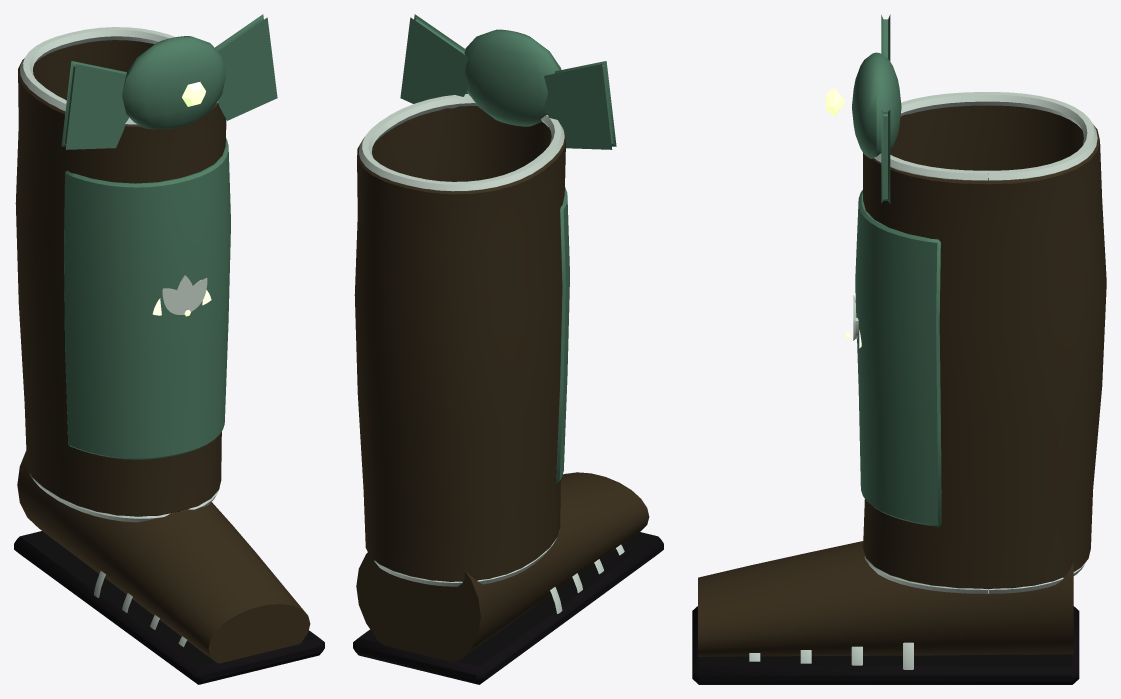
File: boss_grievance_of_the_fairy_boots_1.glb
3 renders of one model, left to right at view 1: azimuth 30°, elevation 25°; view 2: azimuth 150°, elevation 25°; view 3: azimuth 270°, elevation 25°, orthographic. The views are drawn at different scales.
Parts seen in each view (by area): view 1: boss_grievance_of_the_fairy_boots_1, AT_foot_L; view 2: boss_grievance_of_the_fairy_boots_1, AT_foot_L; view 3: boss_grievance_of_the_fairy_boots_1, AT_foot_L.
Part boxes in pixels (<box>): boss_grievance_of_the_fairy_boots_1: <box>15,14,277,522</box>; AT_foot_L: <box>14,451,324,684</box>; boss_grievance_of_the_fairy_boots_1: <box>354,14,616,586</box>; AT_foot_L: <box>353,472,663,684</box>; boss_grievance_of_the_fairy_boots_1: <box>825,14,1106,593</box>; AT_foot_L: <box>692,541,1079,684</box>.
Bounding box in the file's own units: 0.2244 × 0.5768 × 0.3641.
